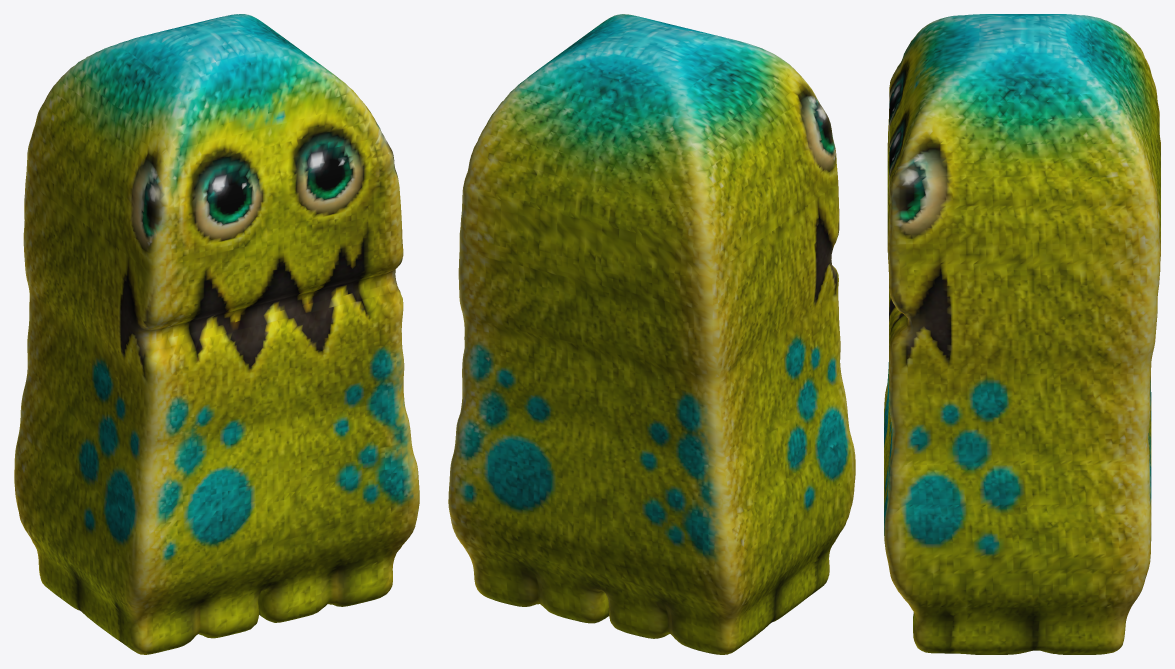
Rendered from organisch-proefmodel.glb.
3 views of the same model, side by side, from view 1: azimuth 30°, elevation 25°; view 2: azimuth 150°, elevation 25°; view 3: azimuth 270°, elevation 25° (orthographic).
Parts seen in each view (by area): view 1: 10-geelgroene-spook-voorkant-zijkant-achterkant; view 2: 10-geelgroene-spook-voorkant-zijkant-achterkant; view 3: 10-geelgroene-spook-voorkant-zijkant-achterkant.
Boxes of the visible parts, <box> form: 10-geelgroene-spook-voorkant-zijkant-achterkant: <box>14,14,419,654</box>; 10-geelgroene-spook-voorkant-zijkant-achterkant: <box>448,14,855,654</box>; 10-geelgroene-spook-voorkant-zijkant-achterkant: <box>884,14,1160,654</box>.
Bounding box in the file's own units: 1.28 × 2.4 × 1.06.
